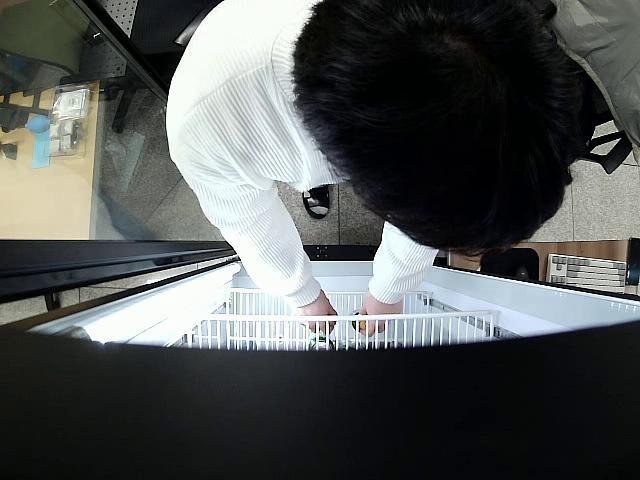17_vita500: (350, 312, 372, 335)
